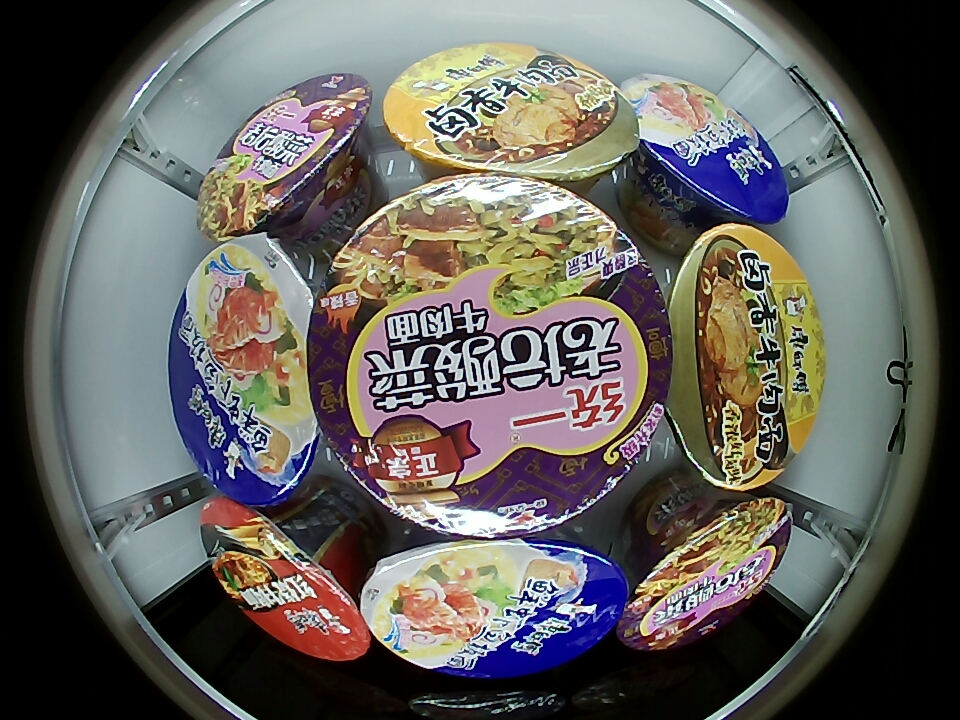hongshaoniurou: (201, 501, 372, 661)
laotansuancai: (306, 177, 668, 538), (196, 71, 373, 242), (616, 494, 793, 652)
luxiangniurou: (664, 224, 824, 492), (382, 43, 638, 179)
xianxiayuban: (169, 237, 323, 506), (359, 538, 632, 676), (625, 74, 790, 226)
